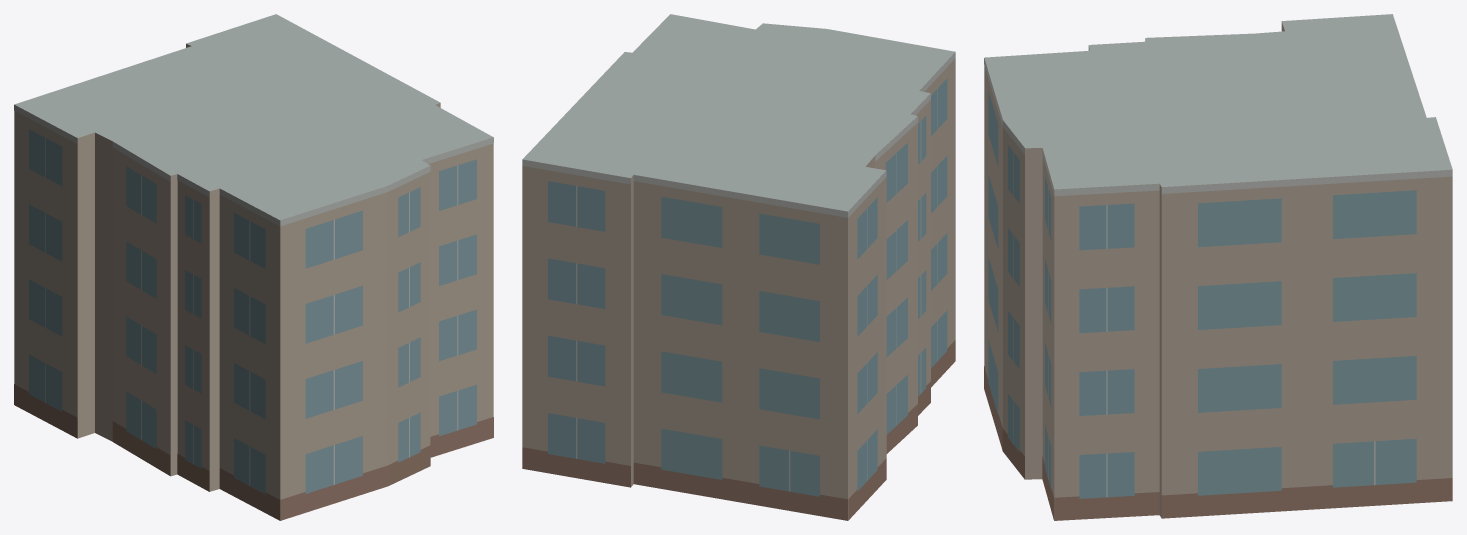
Rendered from survey-upis-32720559.glb.
3 views of the same model, side by side, from view 1: azimuth 30°, elevation 25°; view 2: azimuth 150°, elevation 25°; view 3: azimuth 270°, elevation 25° (orthographic). The views are drawn at different scales.
Visible parts, largest first — view 1: survey-upis-32720559.tmp; view 2: survey-upis-32720559.tmp; view 3: survey-upis-32720559.tmp.
Part boxes in pixels (x1,y1,x2,y2): survey-upis-32720559.tmp: (14, 14, 493, 520); survey-upis-32720559.tmp: (522, 14, 955, 520); survey-upis-32720559.tmp: (984, 14, 1452, 520).
Bounding box in the file's own units: 13.58 × 11.95 × 15.33.
